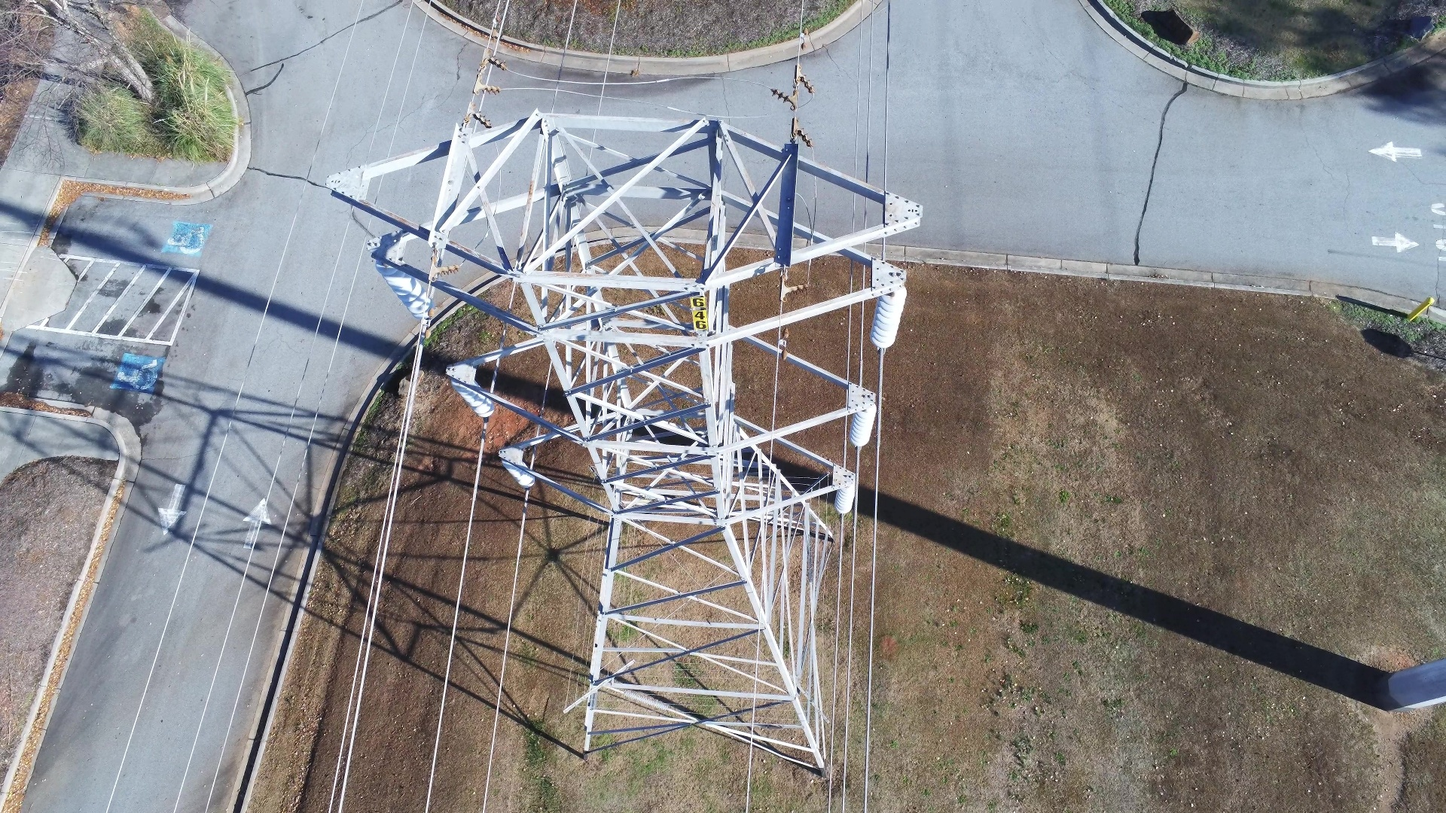insulator: (374, 255, 436, 324), (868, 285, 908, 352), (449, 375, 496, 421), (847, 403, 877, 449), (500, 457, 537, 489), (833, 482, 857, 516)
